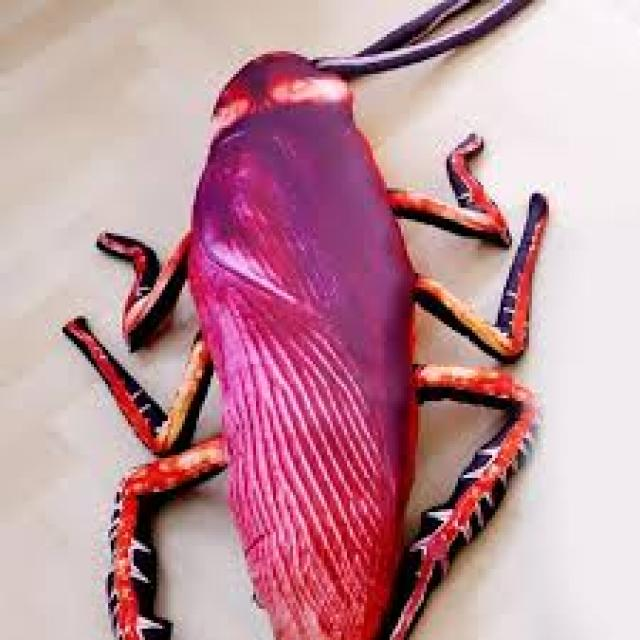Cockroach: (44, 0, 579, 640)
